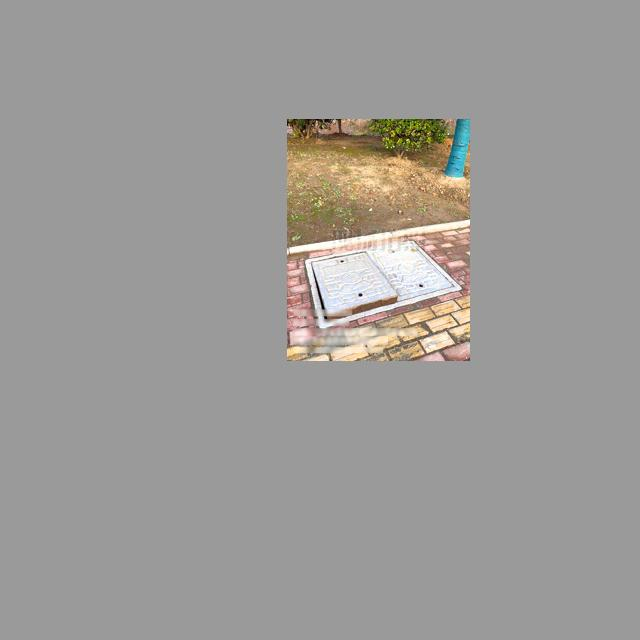uncovered: (304, 240, 463, 329)
